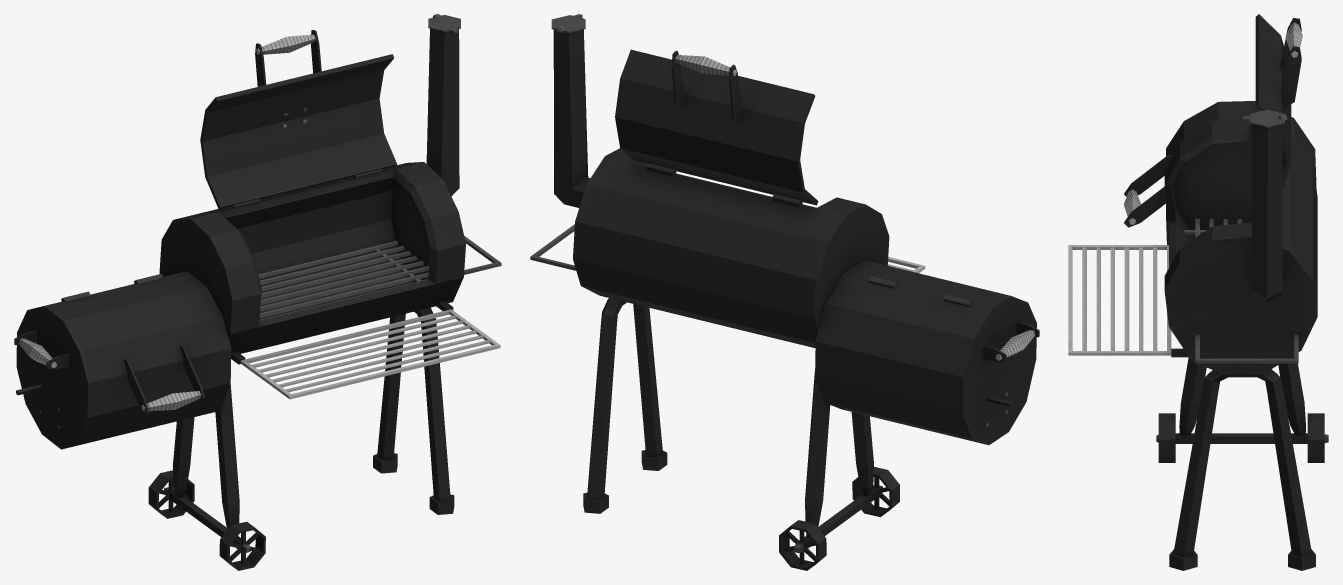
The model's file is 2RnsxiNMppu.glb.
3 renders of one model, left to right at view 1: azimuth 30°, elevation 25°; view 2: azimuth 150°, elevation 25°; view 3: azimuth 270°, elevation 25°, orthographic. The views are drawn at different scales.
Visible parts, largest first — view 1: BBQGrill_Mesh; view 2: BBQGrill_Mesh; view 3: BBQGrill_Mesh.
Boxes of the visible parts, x1,y1,x2,y2 form: BBQGrill_Mesh: (14, 14, 501, 570); BBQGrill_Mesh: (530, 14, 1039, 570); BBQGrill_Mesh: (1068, 14, 1328, 570).
Size of the model in its own units: 1.03 by 1 by 0.4897.
Materials: 1 (1 with a texture image).
